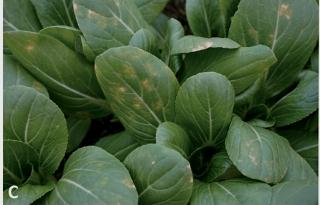Bok-Choy-Diseased: (91, 47, 185, 139), (230, 0, 320, 80), (221, 113, 295, 185), (51, 145, 136, 205)
